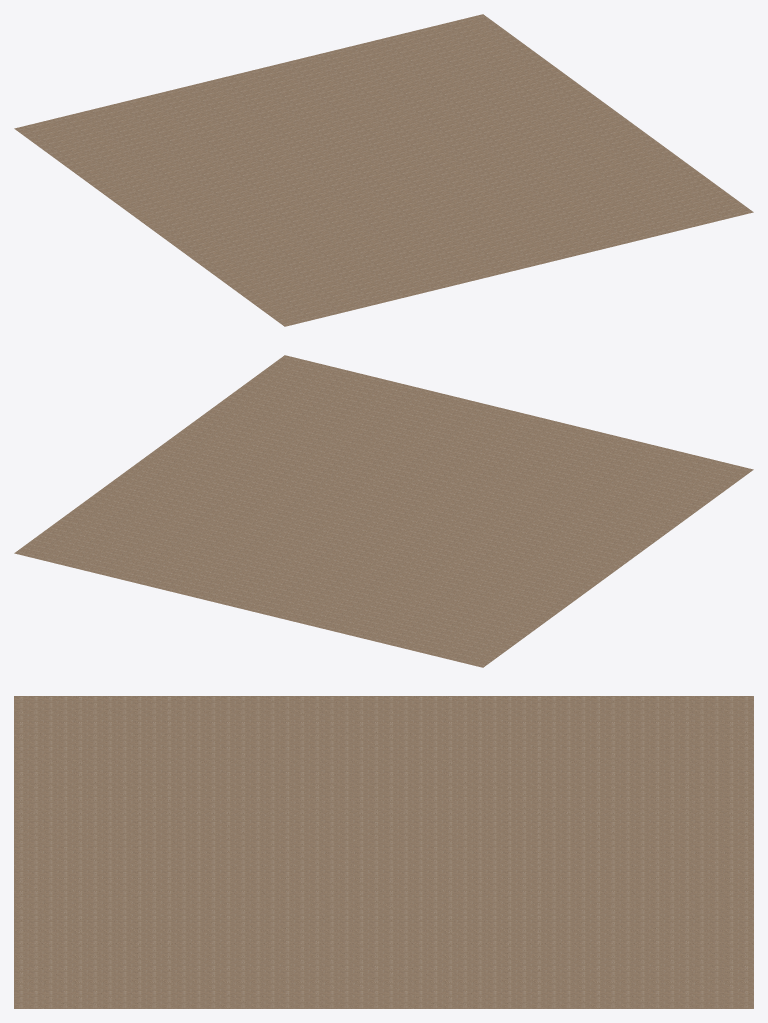
File: graund200m.FBX
The picture shows the model from 3 angles, top to bottom: view 1: azimuth 30°, elevation 25°; view 2: azimuth 150°, elevation 25°; view 3: azimuth 270°, elevation 25°; orthographic projection. The views are drawn at different scales.
Parts seen in each view (by area): view 1: Plane001; view 2: Plane001; view 3: Plane001.
Boxes of the visible parts, <box> form: Plane001: <box>14,14,753,326</box>; Plane001: <box>14,355,753,667</box>; Plane001: <box>14,696,753,1008</box>.
Bounding box in the file's own units: 200 × 1.22e-14 × 200.
Materials: 1 (1 with a texture image).
